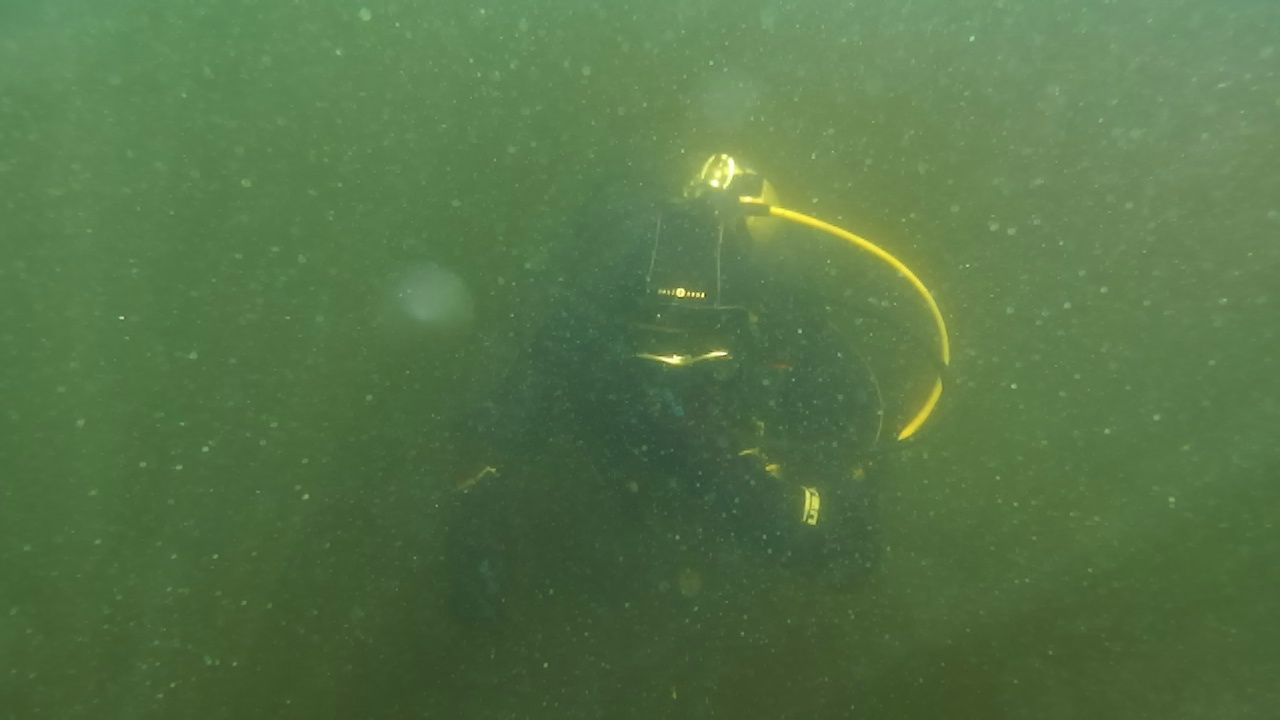Diver: (402, 154, 916, 646)
Hand: (424, 520, 542, 626)
Head: (598, 178, 768, 424)
